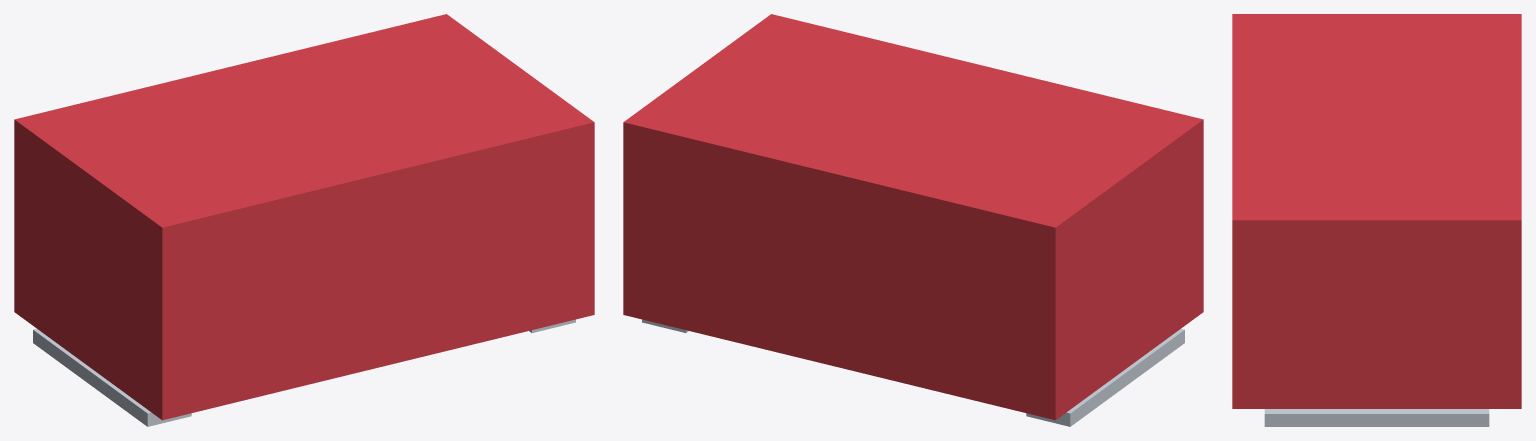
Rendered from 43_L96_W059_Jumper.glb.
3 views of the same model, side by side, from view 1: azimuth 30°, elevation 25°; view 2: azimuth 150°, elevation 25°; view 3: azimuth 270°, elevation 25° (orthographic). The views are drawn at different scales.
Parts seen in each view (by area): view 1: W059_000_Removable_Jumper_Shell, W059_003_Solder_Contact; view 2: W059_000_Removable_Jumper_Shell, W059_003_Solder_Contact; view 3: W059_000_Removable_Jumper_Shell, W059_004_Solder_Contact.
Part boxes in pixels (bbox=[...]): W059_000_Removable_Jumper_Shell: bbox=[14, 14, 594, 420]; W059_003_Solder_Contact: bbox=[33, 329, 191, 426]; W059_000_Removable_Jumper_Shell: bbox=[623, 14, 1203, 420]; W059_003_Solder_Contact: bbox=[1026, 329, 1184, 426]; W059_000_Removable_Jumper_Shell: bbox=[1232, 14, 1521, 408]; W059_004_Solder_Contact: bbox=[1264, 409, 1489, 426].
Size of the model in its own units: 0.0054 by 0.0028 by 0.0032.
